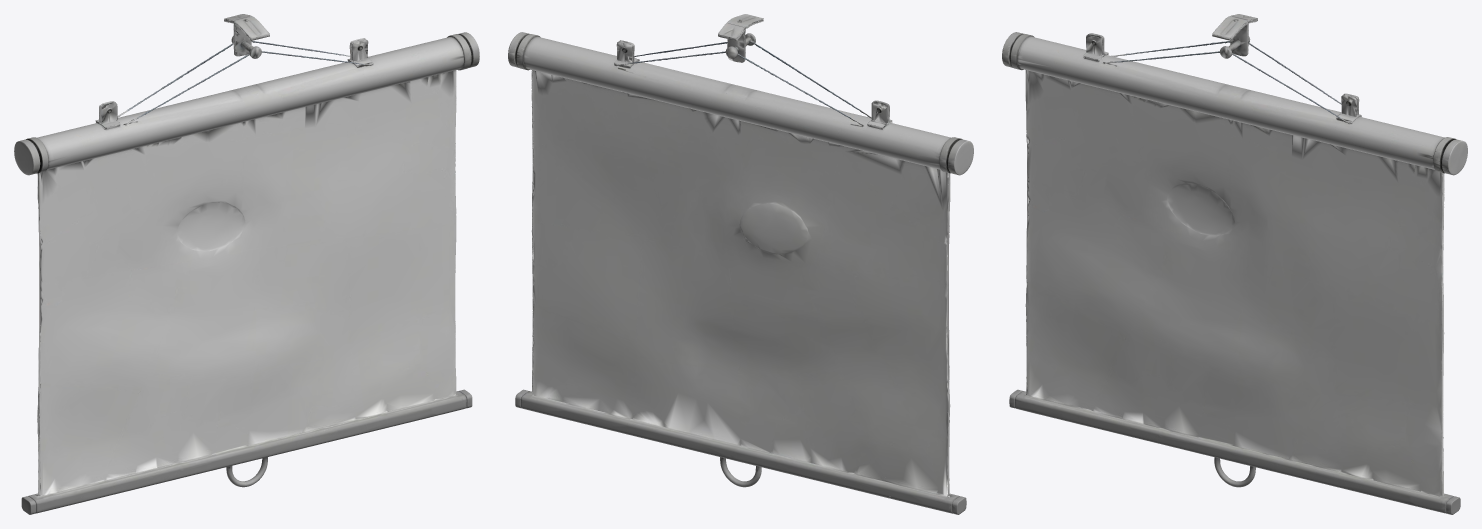
File: tableau.glb
3 views of the same model, side by side, from view 1: azimuth 30°, elevation 25°; view 2: azimuth 150°, elevation 25°; view 3: azimuth 330°, elevation 25° (orthographic).
Visible parts, largest first — view 1: tripo_node_76434551-57ab-4a96-93d9-c7aee3a8d3ff; view 2: tripo_node_76434551-57ab-4a96-93d9-c7aee3a8d3ff; view 3: tripo_node_76434551-57ab-4a96-93d9-c7aee3a8d3ff.
Boxes of the visible parts, left/top/right/bottom form: tripo_node_76434551-57ab-4a96-93d9-c7aee3a8d3ff: left=14, top=14, right=479, bottom=514; tripo_node_76434551-57ab-4a96-93d9-c7aee3a8d3ff: left=508, top=14, right=973, bottom=514; tripo_node_76434551-57ab-4a96-93d9-c7aee3a8d3ff: left=1002, top=14, right=1467, bottom=514.
Size of the model in its own units: 0.9791 by 0.9763 by 0.1059.
1 material, 1 textured.
